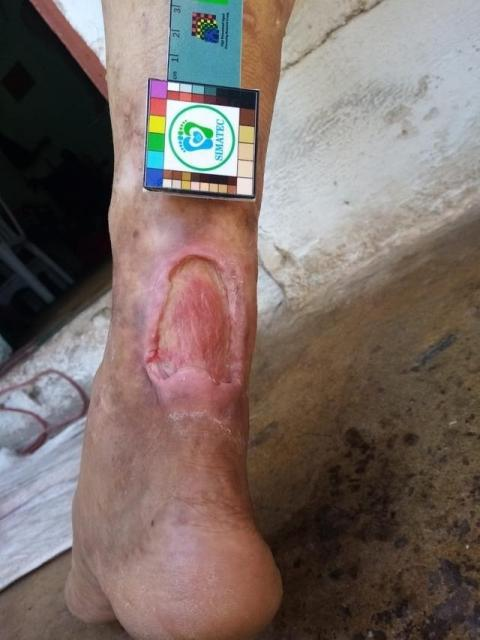wound: (144, 254, 238, 384)
